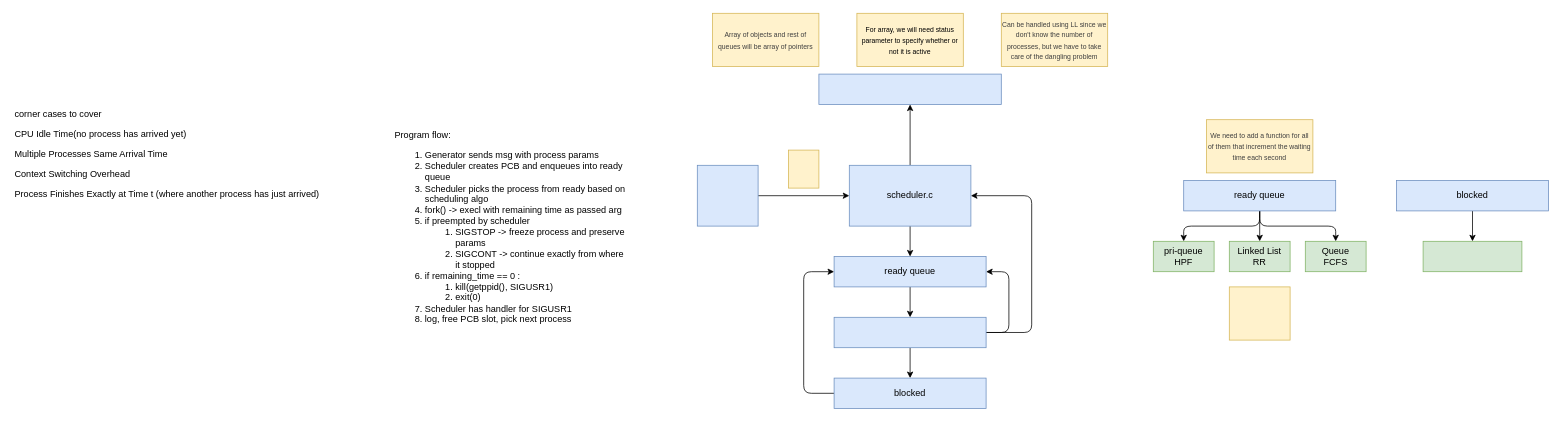
Image size: 1562x422. Some labels were removed from this diagram. The centre of each missing label's shape, as x and y in pixels:
Circular LL since the number of processes isn't specified: the point at 1259,313
In Data: the point at 727,195
msgq will be best: the point at 803,168
PCBs array: the point at 909,88
Pri-Queue (remaining block time): the point at 1472,256
running: the point at 909,332
